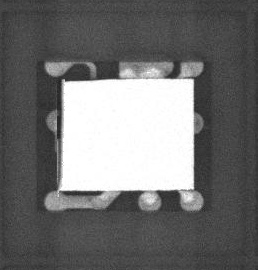DIE_BROKEN: (54, 78, 65, 185)
